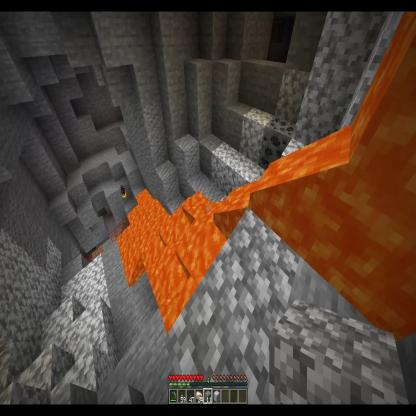coal ore: (258, 118, 296, 172)
